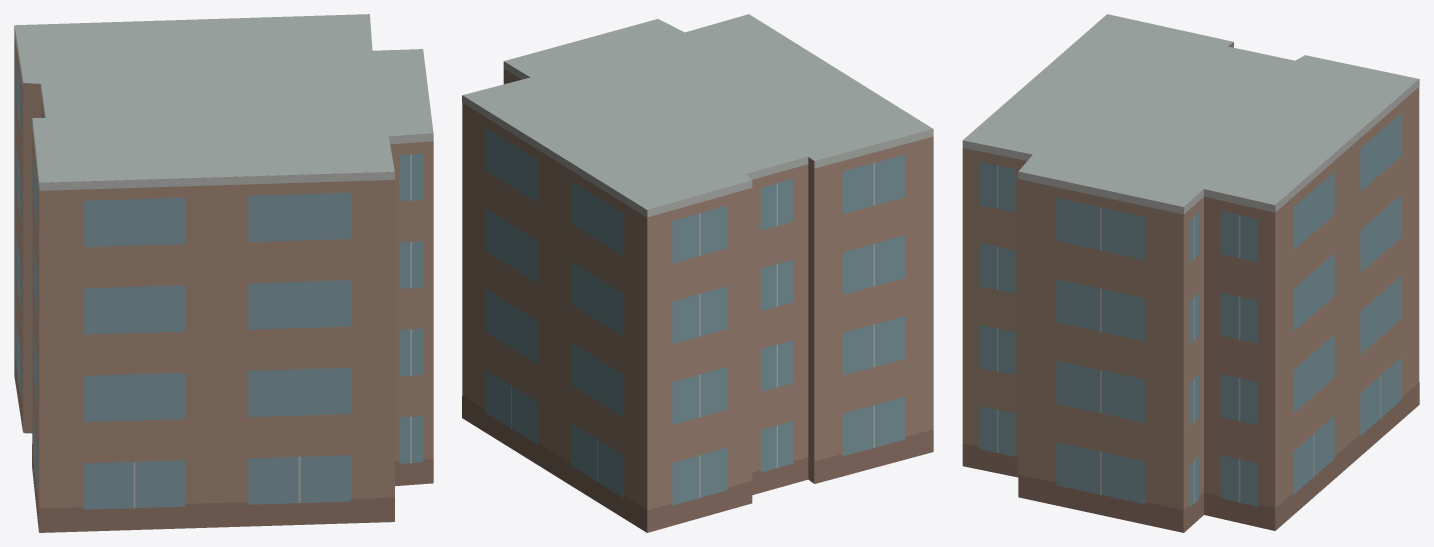
The model's file is survey-upis-32947258.glb.
3 views of the same model, side by side, from view 1: azimuth 30°, elevation 25°; view 2: azimuth 150°, elevation 25°; view 3: azimuth 270°, elevation 25° (orthographic). The views are drawn at different scales.
Parts seen in each view (by area): view 1: survey-upis-32947258.tmp; view 2: survey-upis-32947258.tmp; view 3: survey-upis-32947258.tmp.
Part boxes in pixels (bbox=[...]): survey-upis-32947258.tmp: bbox=[14, 14, 433, 532]; survey-upis-32947258.tmp: bbox=[462, 14, 933, 532]; survey-upis-32947258.tmp: bbox=[962, 14, 1419, 532].
Size of the model in its own units: 13.48 by 10.6 by 13.48.
